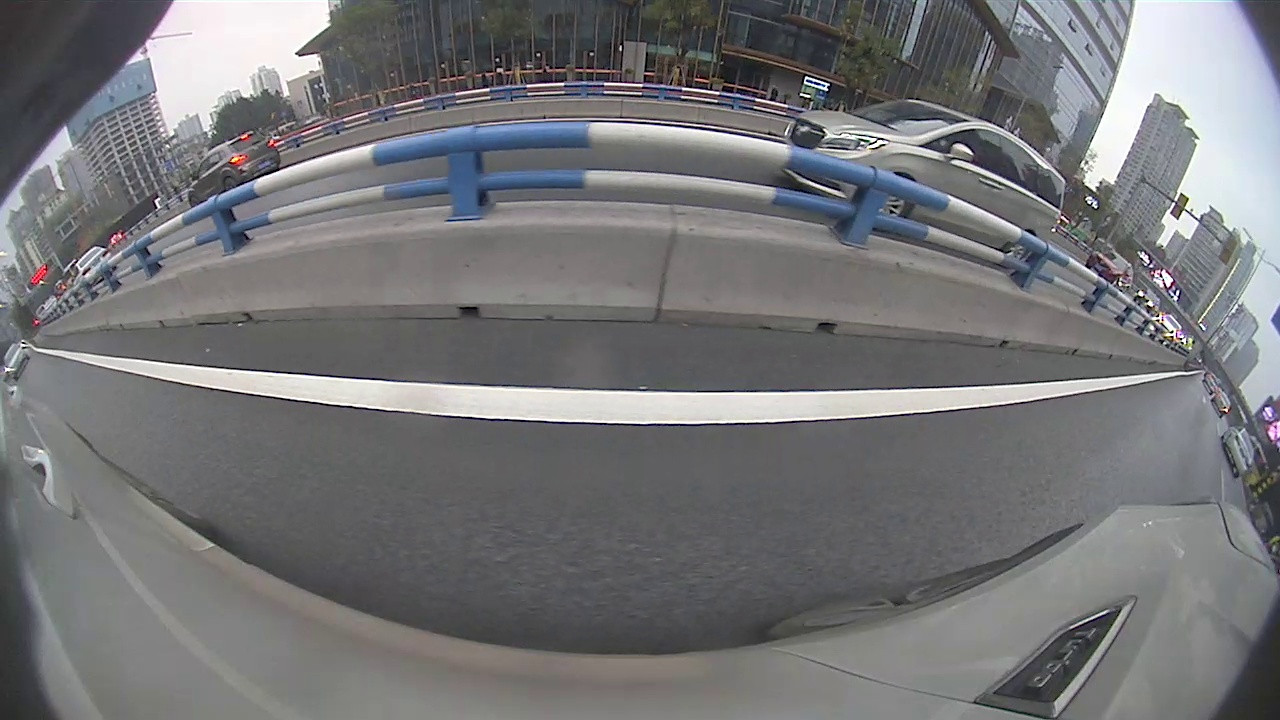car: (780, 99, 1067, 256), (1221, 424, 1256, 478)
front: (876, 190, 917, 221)
